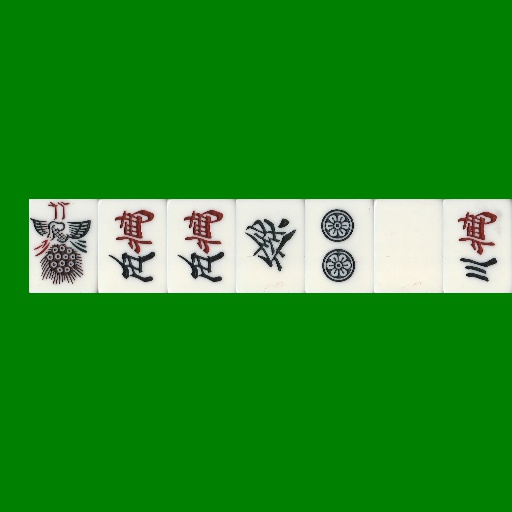1s: (29, 199, 98, 293)
2p: (305, 199, 374, 293)
3m: (443, 199, 512, 293)
5m: (98, 199, 167, 293), (167, 199, 236, 293)
hatsu: (236, 199, 305, 293)
white: (374, 199, 443, 293)
